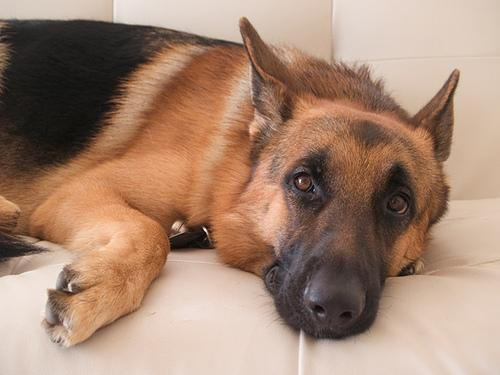German_shepherd: (0, 16, 462, 351)
